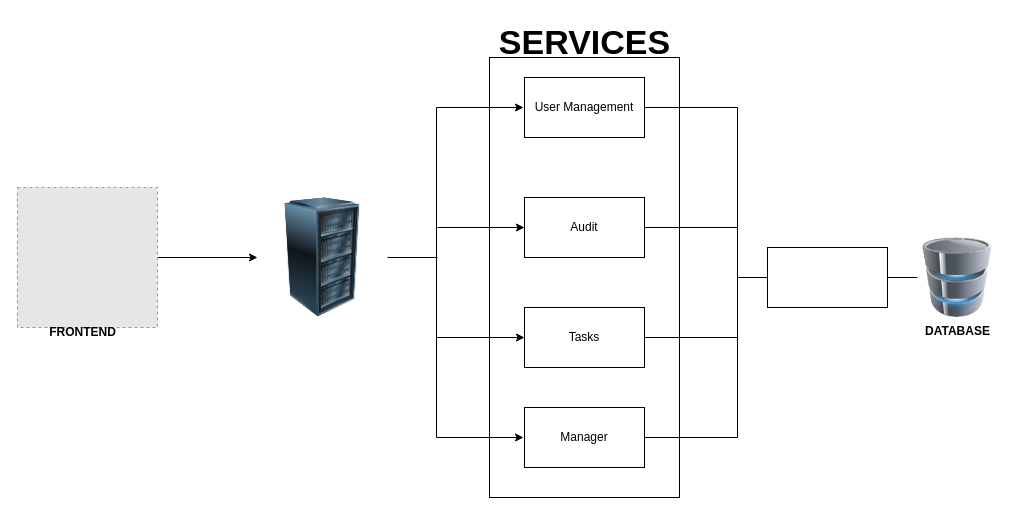
Some shapes in this 1015 by 515 pixel diagram are drawn without their labels. Grey dashed boxes stand in for pictures. The centre of each missing label's shape, as x and y in pixels:
<<Library>> backend-db-lib: point (827, 277)
GATEWAY: point (322, 257)
